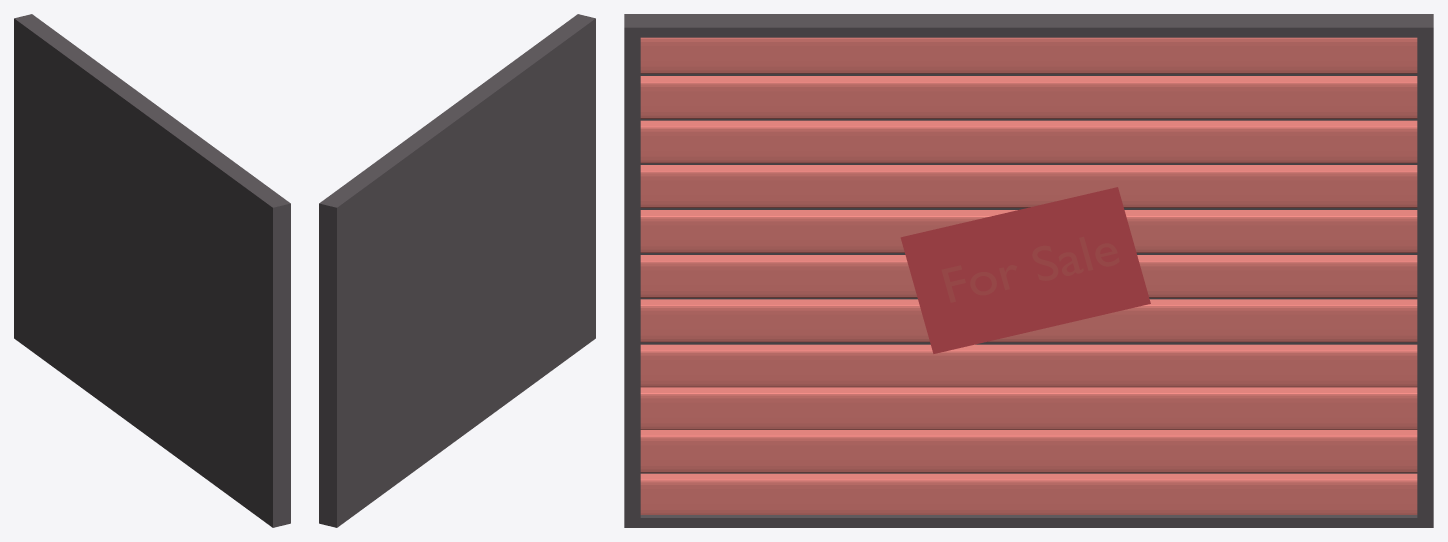
File: shutter.fbx
3 views of the same model, side by side, from view 1: azimuth 30°, elevation 25°; view 2: azimuth 150°, elevation 25°; view 3: azimuth 270°, elevation 25° (orthographic). The views are drawn at different scales.
Parts seen in each view (by area): view 1: Plane; view 2: Plane; view 3: Plane, Plane.009, Plane.004, Plane.002, Plane.003, Plane.010, Plane.001, Plane.008, Plane.011, Plane.005, Plane.012, Plane.007 (+2 smaller).
Boxes of the visible parts, bbox=[...] form: Plane: bbox=[14, 14, 290, 527]; Plane: bbox=[319, 14, 595, 527]; Plane: bbox=[624, 14, 1433, 527]; Plane.009: bbox=[640, 120, 1417, 163]; Plane.004: bbox=[640, 344, 1417, 387]; Plane.002: bbox=[640, 430, 1417, 472]; Plane.003: bbox=[640, 387, 1417, 429]; Plane.010: bbox=[640, 76, 1417, 118]; Plane.001: bbox=[640, 473, 1417, 514]; Plane.008: bbox=[640, 165, 1417, 207]; Plane.011: bbox=[640, 37, 1417, 73]; Plane.005: bbox=[640, 299, 1417, 342]; Plane.012: bbox=[900, 187, 1150, 353]; Plane.007: bbox=[640, 210, 1417, 252].
Bounding box in the file's own units: 58.36 × 997 × 1461.
